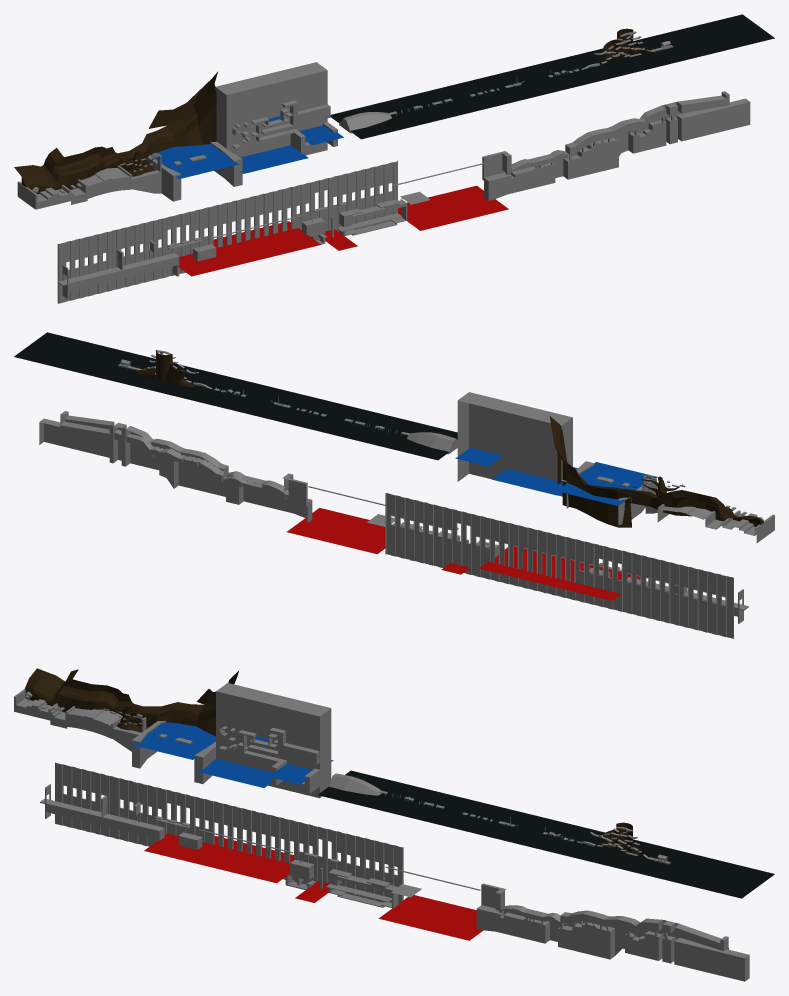
Rendered from level export.obj.
3 views of the same model, one above another, from view 1: azimuth 30°, elevation 25°; view 2: azimuth 150°, elevation 25°; view 3: azimuth 330°, elevation 25° (orthographic). The views are drawn at different scales.
Parts seen in each view (by area): view 1: pCube96, pCube29, pPlane7, pCube98, pCube131, pPlane8, pPlane11, polySurface9 pCube58, pPlane4, pCube58 polySurface13, pPlane5, pCube102 (+2 smaller); view 2: pCube96, pPlane7, pCube29, pCube98, pCube131, pPlane11, pPlane8, pPlane4, pPlane5, polySurface8, pCube102; view 3: pCube96, pCube29, pPlane7, pCube98, pCube131, pPlane8, pPlane11, polySurface9 pCube58, pPlane4, pCube58 polySurface13, pPlane5, pCube102 (+3 smaller).
Boxes of the visible parts, left/top/right/bottom form: pCube96: left=57, top=160, right=397, bottom=303; pCube29: left=17, top=62, right=337, bottom=209; pPlane7: left=330, top=14, right=774, bottom=138; pCube98: left=482, top=91, right=750, bottom=200; pCube131: left=14, top=72, right=217, bottom=193; pPlane8: left=178, top=221, right=320, bottom=276; pPlane11: left=398, top=185, right=508, bottom=230; polySurface9 pCube58: left=57, top=240, right=179, bottom=298; pPlane4: left=151, top=144, right=238, bottom=178; pCube58 polySurface13: left=337, top=199, right=407, bottom=235; pPlane5: left=240, top=145, right=308, bottom=173; pCube102: left=339, top=112, right=391, bottom=133; pCube96: left=385, top=493, right=733, bottom=638; pPlane7: left=14, top=332, right=457, bottom=459; pCube29: left=457, top=392, right=774, bottom=543; pCube98: left=39, top=411, right=312, bottom=522; pCube131: left=549, top=416, right=763, bottom=527; pPlane11: left=287, top=508, right=386, bottom=554; pPlane8: left=479, top=546, right=640, bottom=600; pPlane4: left=557, top=462, right=657, bottom=505; pPlane5: left=492, top=467, right=577, bottom=495; polySurface8: left=138, top=350, right=194, bottom=386; pCube102: left=406, top=432, right=457, bottom=454; pCube96: left=55, top=762, right=403, bottom=903; pCube29: left=14, top=683, right=331, bottom=798; pPlane7: left=318, top=770, right=774, bottom=898; pCube98: left=476, top=883, right=749, bottom=981; pCube131: left=25, top=668, right=238, bottom=736; pPlane8: left=144, top=833, right=293, bottom=883; pPlane11: left=379, top=895, right=483, bottom=940; polySurface9 pCube58: left=40, top=784, right=164, bottom=840; pPlane4: left=131, top=722, right=215, bottom=759; pCube58 polySurface13: left=326, top=869, right=398, bottom=908; pPlane5: left=197, top=758, right=271, bottom=787; pCube102: left=329, top=773, right=381, bottom=795.
Bounding box in the file's own units: 1336 × 324 × 154.
